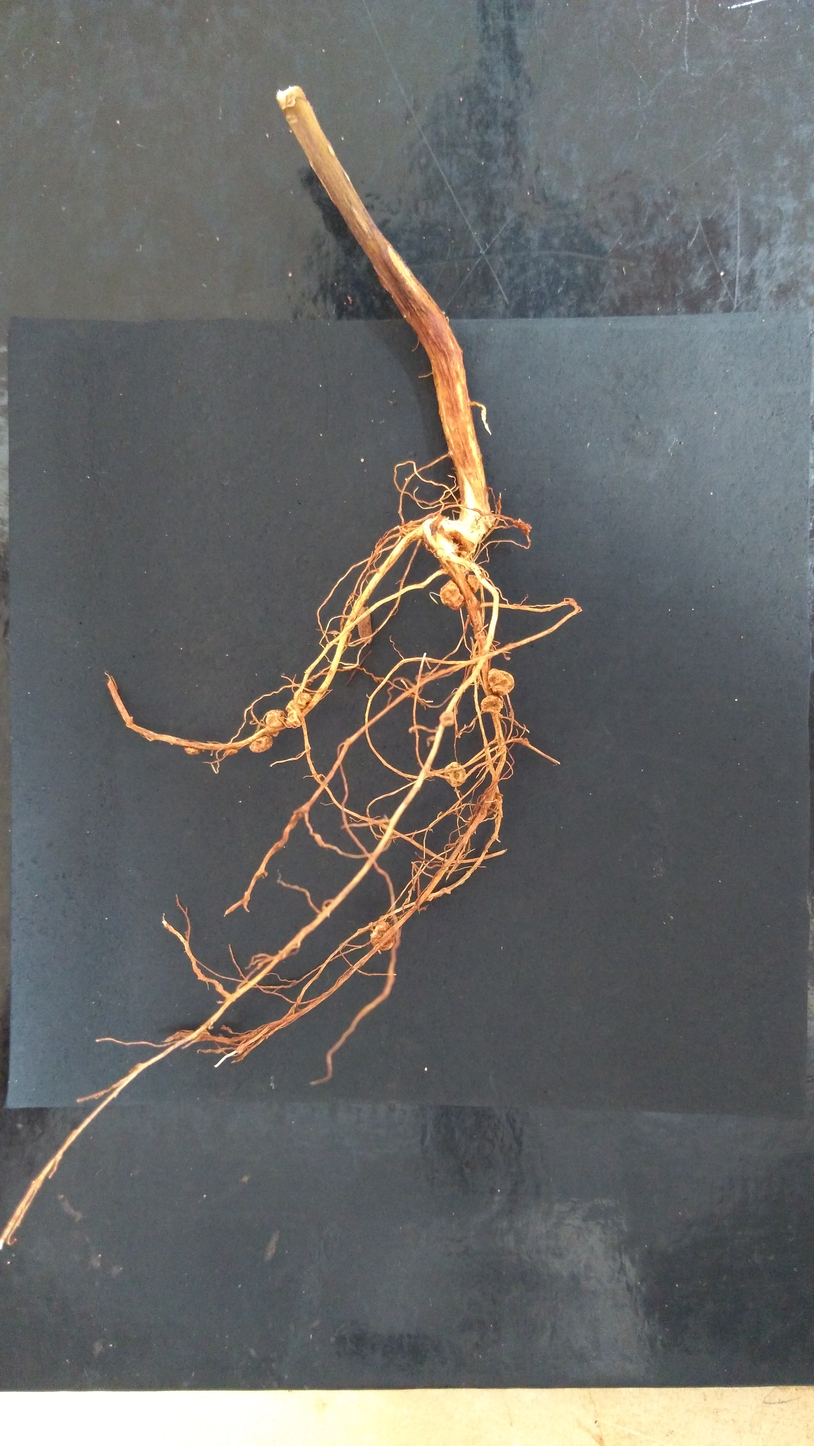nodule: (439, 574, 485, 611), (487, 667, 515, 696), (369, 921, 396, 951), (443, 761, 467, 787), (265, 709, 286, 737), (248, 734, 273, 753), (480, 695, 504, 714), (285, 709, 304, 728), (285, 699, 308, 714), (294, 691, 312, 709), (512, 519, 532, 534), (438, 710, 455, 727), (183, 744, 200, 755), (225, 748, 238, 756), (520, 736, 529, 746), (307, 681, 312, 686)
